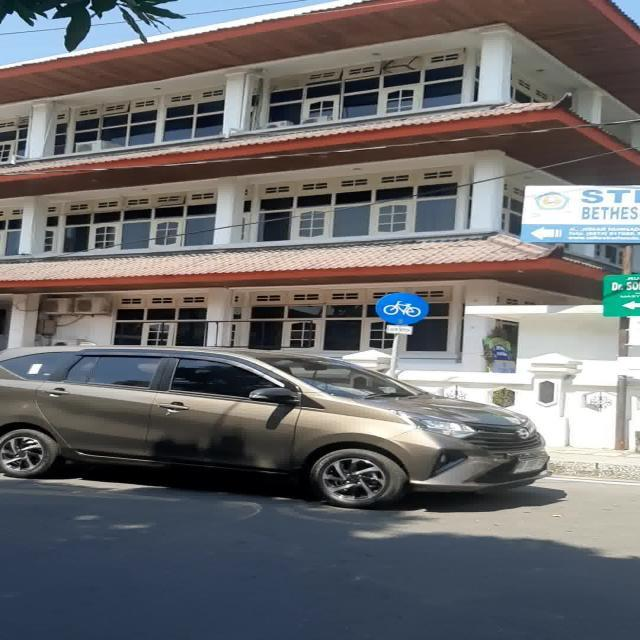Jalur Sepeda: (375, 292, 429, 324)
